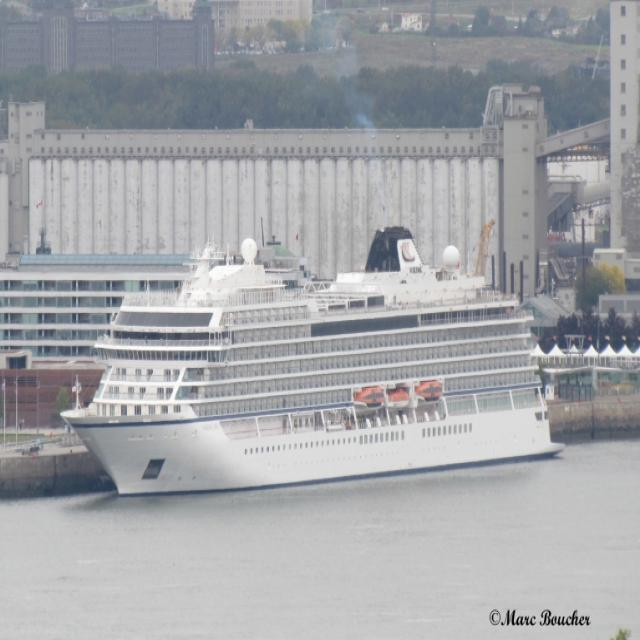cruises: (57, 217, 564, 503)
